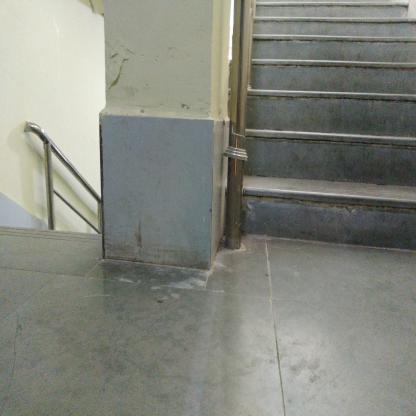stairs: (259, 1, 416, 256)
